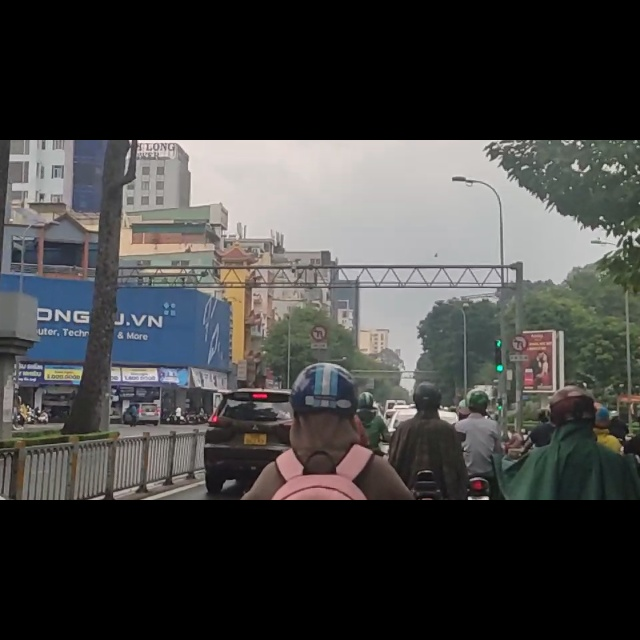bien_cam: (513, 347, 529, 375), (311, 331, 327, 358)
